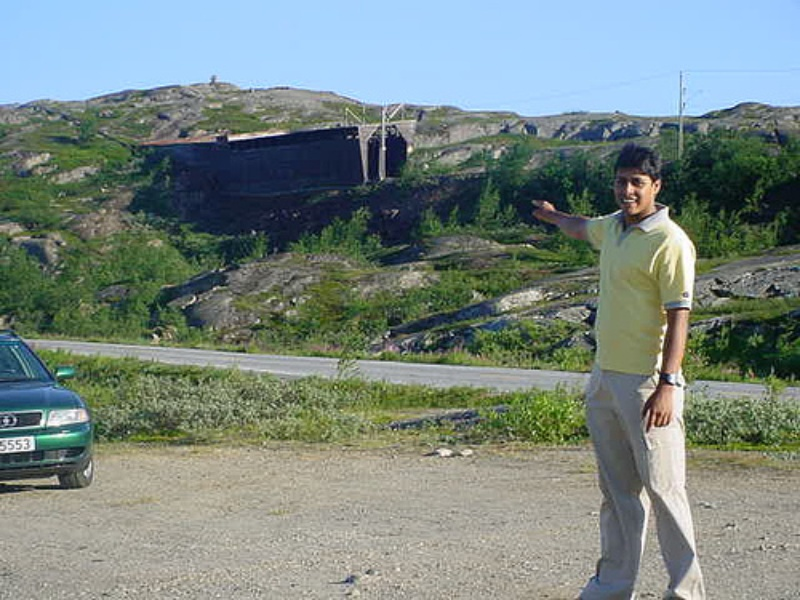car: (1, 328, 95, 489)
person: (529, 144, 706, 600)
